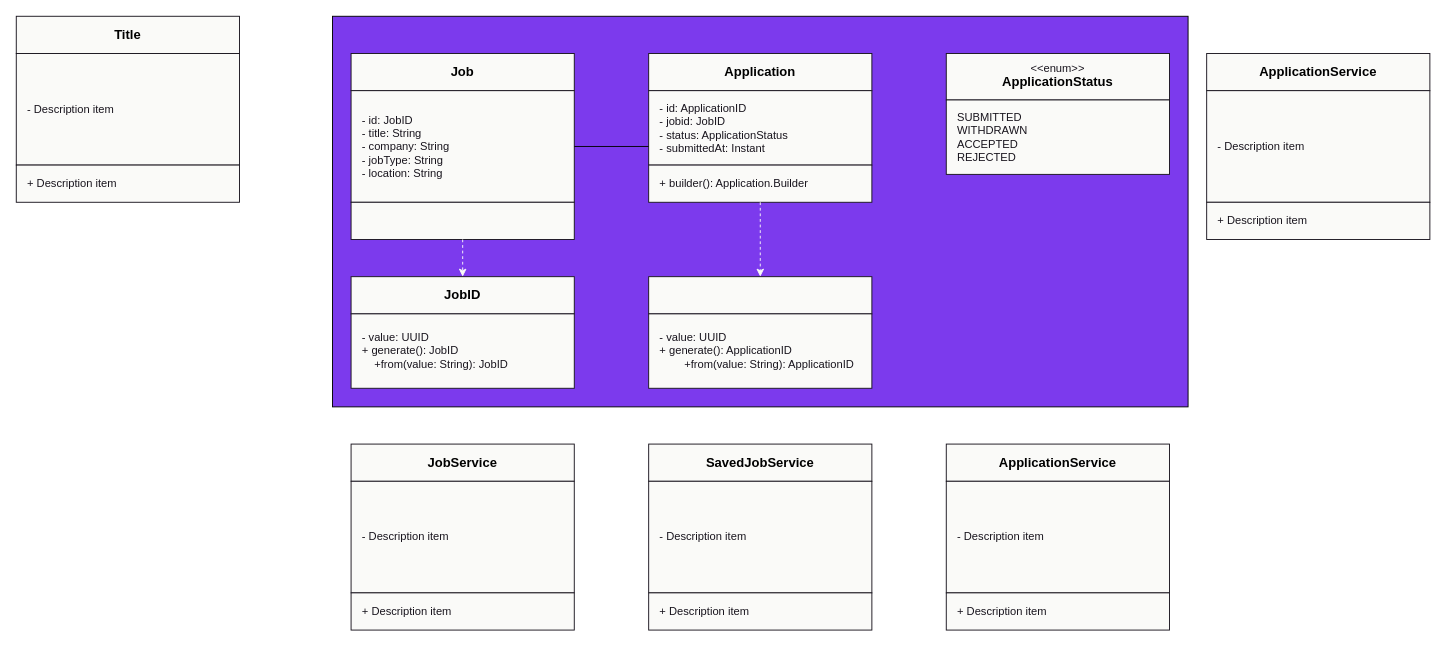
The diagram is 1446 pixels wide and 646 high, and some of its shapes have lost their labels. Here are the shapes that lost their labels. From the top down, the centre of each, then its label:
(462,220): + builder(): Job.Builder
(760,295): ApplicationID
